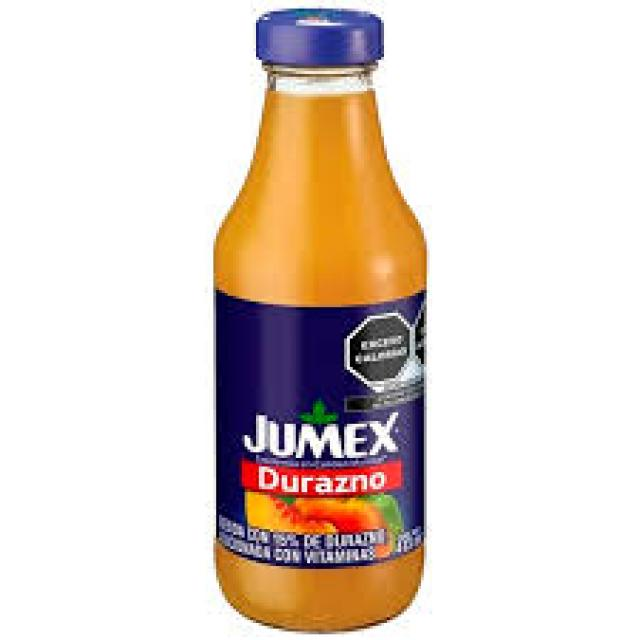Botella: (192, 4, 444, 632)
